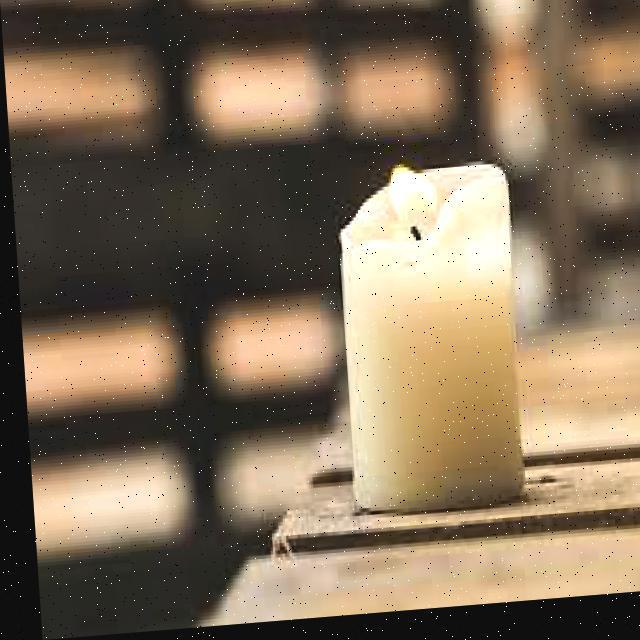Fire: (372, 154, 440, 250)
